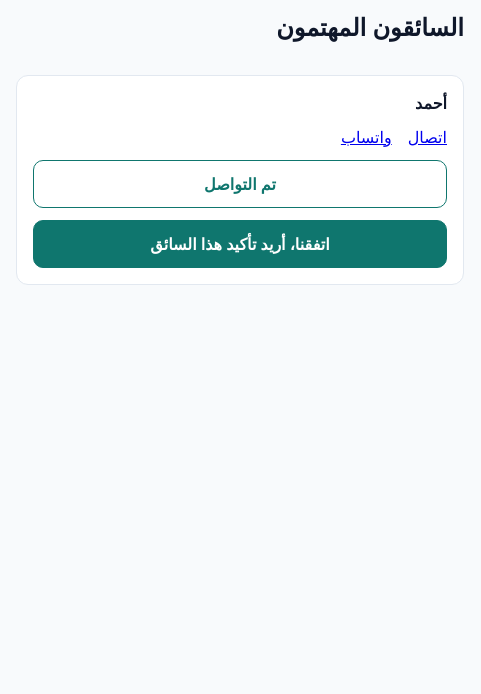
InterestedDrivers › requires a price before confirming
The width and height of the screenshot is (481, 694).
Click the button "اتفقنا، أريد تأكيد هذا السائق" at point(240, 244), box [33, 220, 447, 268]
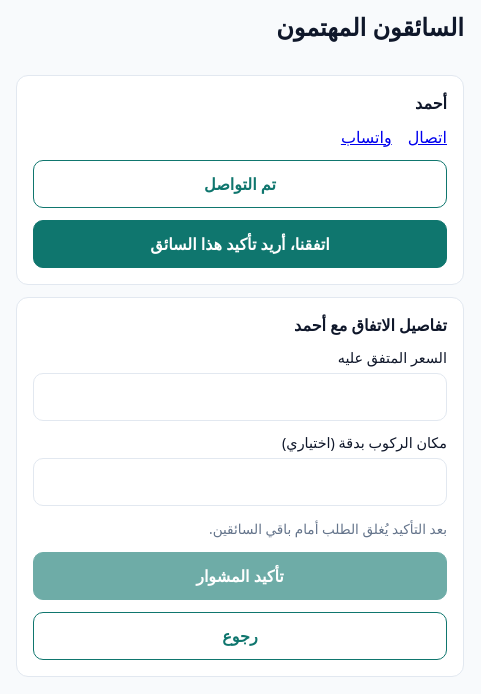
Now the submit button is disabled, box [33, 552, 447, 600]
